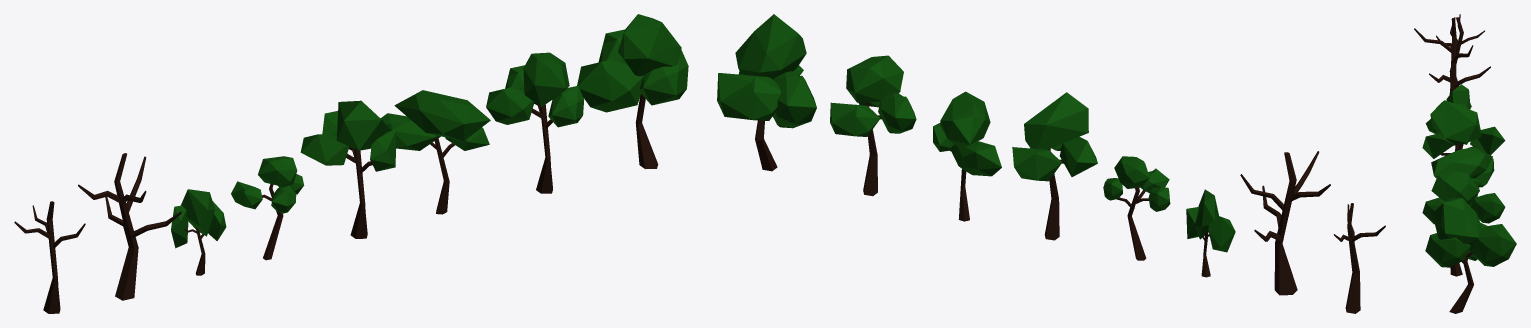
File: LowPollyTrees.fbx
The picture shows the model from 3 angles, left to right: view 1: azimuth 30°, elevation 25°; view 2: azimuth 150°, elevation 25°; view 3: azimuth 270°, elevation 25°; orthographic projection. The views are drawn at different scales.
Parts seen in each view (by area): view 1: Tree_3, Tree_4, Tree_5, Tree_1, Tree_2, DeadTree_2, Tree_6, DeadTree_1; view 2: Tree_3, Tree_1, Tree_4, Tree_5, Tree_2, DeadTree_2, Tree_6, DeadTree_1; view 3: Tree_3, Tree_1, Tree_4, Tree_5, DeadTree_2, Tree_6, DeadTree_1, Tree_2.
Boxes of the visible parts, x1=… form: Tree_3: x1=577, y1=14, x2=688, y2=169; Tree_4: x1=486, y1=52, x2=584, y2=193; Tree_5: x1=380, y1=90, x2=490, y2=214; Tree_1: x1=300, y1=100, x2=396, y2=238; Tree_2: x1=231, y1=156, x2=304, y2=260; DeadTree_2: x1=78, y1=153, x2=181, y2=300; Tree_6: x1=171, y1=189, x2=226, y2=275; DeadTree_1: x1=14, y1=201, x2=85, y2=313; Tree_3: x1=717, y1=14, x2=816, y2=171; Tree_1: x1=1012, y1=92, x2=1097, y2=240; Tree_4: x1=830, y1=55, x2=916, y2=196; Tree_5: x1=933, y1=91, x2=1001, y2=221; Tree_2: x1=1103, y1=156, x2=1170, y2=260; DeadTree_2: x1=1240, y1=151, x2=1330, y2=295; Tree_6: x1=1186, y1=189, x2=1235, y2=277; DeadTree_1: x1=1333, y1=203, x2=1385, y2=313; Tree_3: x1=1425, y1=197, x2=1516, y2=313; Tree_1: x1=1422, y1=100, x2=1505, y2=158; Tree_4: x1=1422, y1=171, x2=1505, y2=276; Tree_5: x1=1431, y1=147, x2=1494, y2=187; DeadTree_2: x1=1414, y1=17, x2=1490, y2=94; Tree_6: x1=1446, y1=84, x2=1471, y2=147; DeadTree_1: x1=1436, y1=14, x2=1484, y2=87; Tree_2: x1=1425, y1=102, x2=1467, y2=151.
Bounding box in the file's own units: 1916 × 415 × 350.
